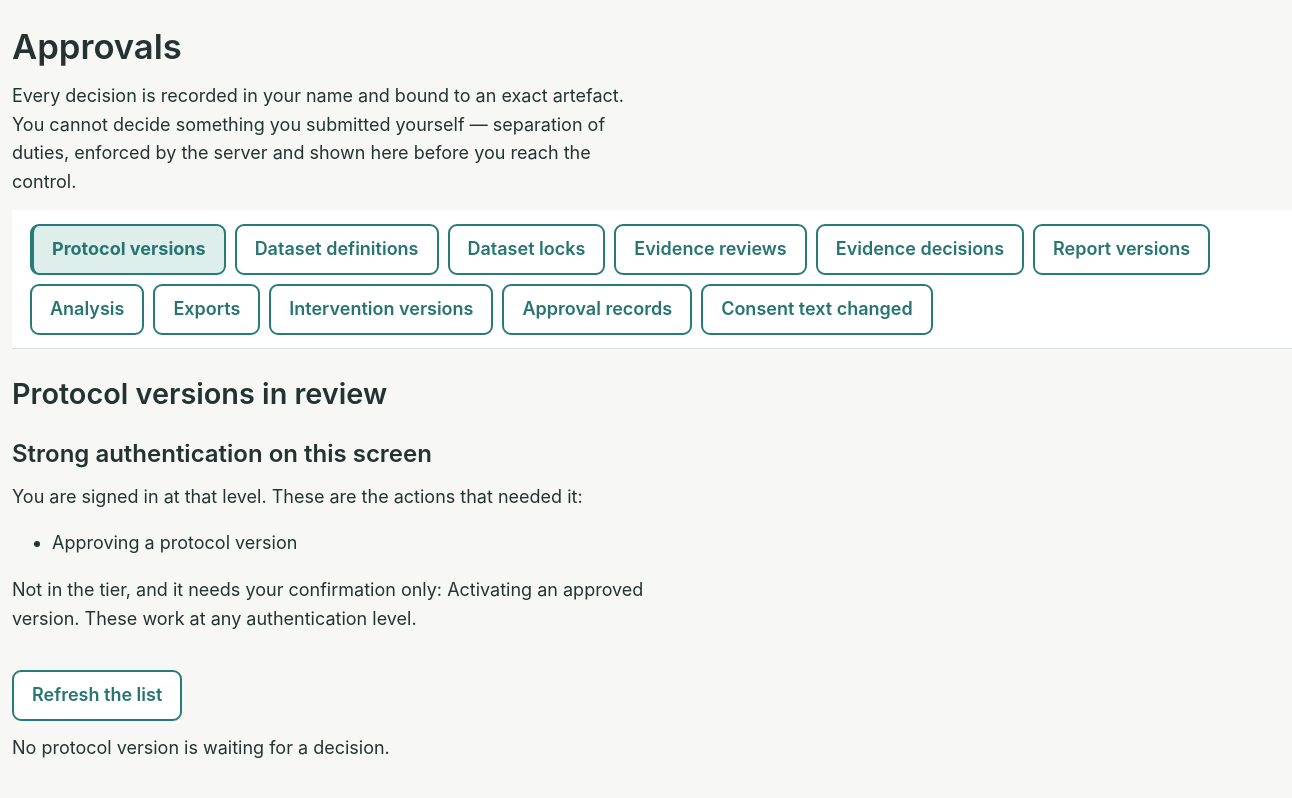
it: approving along the analysis chain › your own draft is refused before the button, not after
What coordinates should you click on to do the following:
click the button "Analysis"
I would click on:
 (87, 309)
Its box is [30,284,144,335].
(page scrolled)
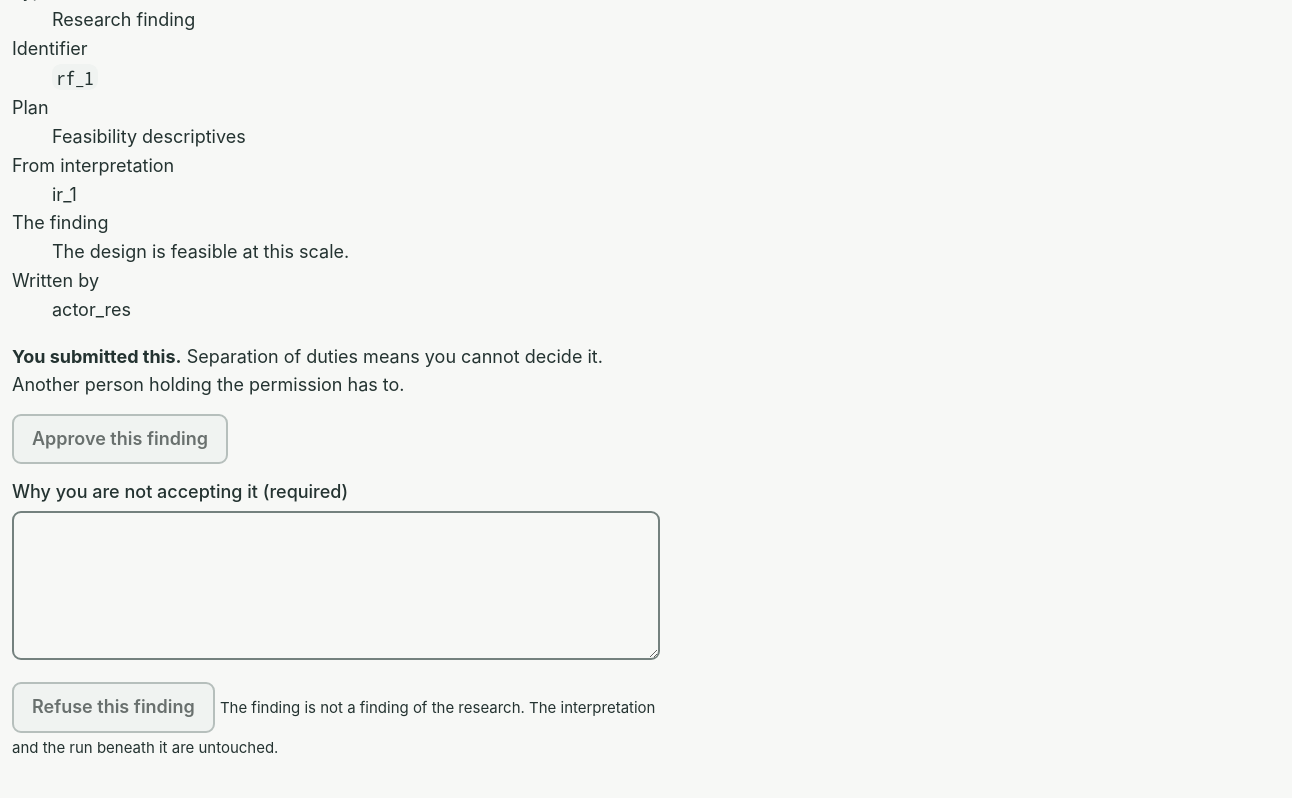
Result: the button "Approve this finding" is disabled at [12,414,228,464]
